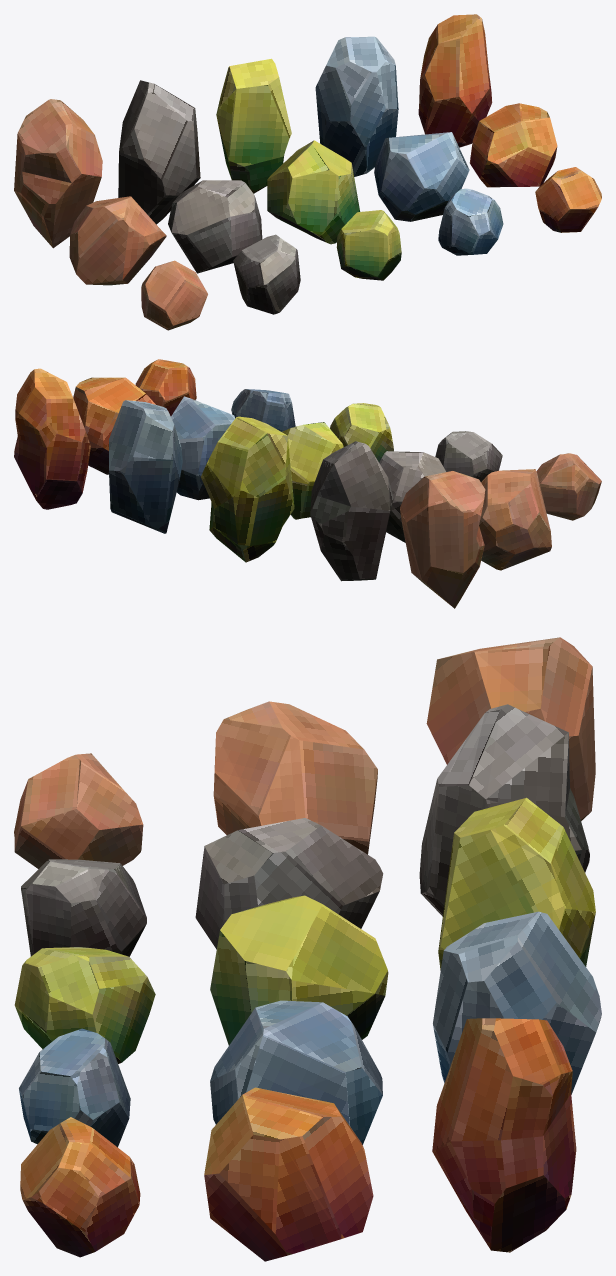
Rendered from rocas.glb.
3 views of the same model, one above another, from view 1: azimuth 30°, elevation 25°; view 2: azimuth 150°, elevation 25°; view 3: azimuth 270°, elevation 25° (orthographic). The views are drawn at different scales.
Visible parts, largest first — view 1: L_Rock_01_0, L_Rock_04_3, L_Rock_02_1, L_Rock_05_4, L_Rock_03_2, M_Rock_03_7, M_Rock_04_8, M_Rock_02_6, M_Rock_01_5, M_Rock_05_9, S_Rock_02_11, S_Rock_03_12 (+3 smaller); view 2: L_Rock_03_2, L_Rock_02_1, L_Rock_01_0, L_Rock_05_4, L_Rock_04_3, M_Rock_01_5, M_Rock_04_8, M_Rock_05_9, S_Rock_01_10, M_Rock_03_7, M_Rock_02_6, S_Rock_02_11 (+3 smaller); view 3: L_Rock_05_4, M_Rock_05_9, M_Rock_01_5, M_Rock_03_7, L_Rock_04_3, L_Rock_03_2, L_Rock_02_1, L_Rock_01_0, M_Rock_04_8, M_Rock_02_6, S_Rock_05_14, S_Rock_03_12 (+3 smaller).
Part boxes in pixels (x1,y1,x2,y2): L_Rock_01_0: (14, 99, 102, 248); L_Rock_04_3: (315, 36, 398, 176); L_Rock_02_1: (118, 80, 200, 224); L_Rock_05_4: (418, 14, 492, 147); L_Rock_03_2: (216, 58, 291, 193); M_Rock_03_7: (267, 140, 360, 244); M_Rock_04_8: (374, 132, 469, 221); M_Rock_02_6: (168, 180, 262, 273); M_Rock_01_5: (69, 196, 166, 285); M_Rock_05_9: (469, 103, 557, 187); S_Rock_02_11: (233, 234, 300, 314); S_Rock_03_12: (336, 210, 401, 280); L_Rock_03_2: (201, 416, 294, 562); L_Rock_02_1: (310, 441, 393, 581); L_Rock_01_0: (400, 471, 485, 608); L_Rock_05_4: (14, 368, 90, 509); L_Rock_04_3: (109, 400, 182, 533); M_Rock_01_5: (479, 469, 551, 570); M_Rock_04_8: (171, 396, 234, 500); M_Rock_05_9: (73, 377, 155, 474); S_Rock_01_10: (536, 453, 601, 520); M_Rock_03_7: (282, 422, 343, 519); M_Rock_02_6: (379, 451, 445, 542); S_Rock_02_11: (435, 431, 502, 481); L_Rock_05_4: (432, 1018, 576, 1252); M_Rock_05_9: (204, 1087, 373, 1261); M_Rock_01_5: (213, 701, 377, 854); M_Rock_03_7: (210, 895, 388, 1045); L_Rock_04_3: (433, 911, 601, 1094); L_Rock_03_2: (438, 797, 595, 970); L_Rock_02_1: (419, 704, 589, 916); L_Rock_01_0: (426, 637, 595, 820); M_Rock_04_8: (210, 1000, 382, 1144); M_Rock_02_6: (195, 818, 383, 949); S_Rock_05_14: (20, 1117, 140, 1257); S_Rock_03_12: (14, 947, 155, 1063).
Bounding box in the file's own units: 9.56 × 2.73 × 5.43.
Materials: 15 (15 with a texture image).
